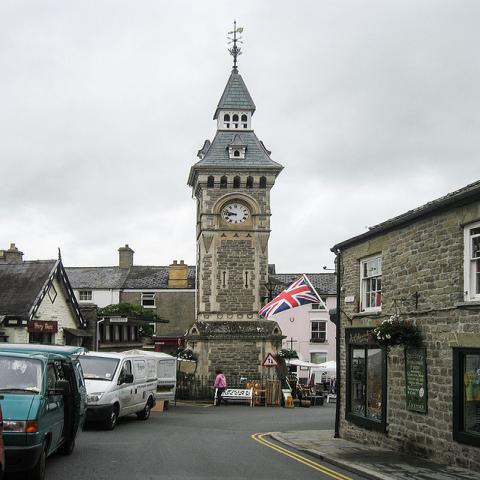car: (0, 342, 87, 479)
truck: (0, 346, 90, 473), (80, 353, 178, 432)
